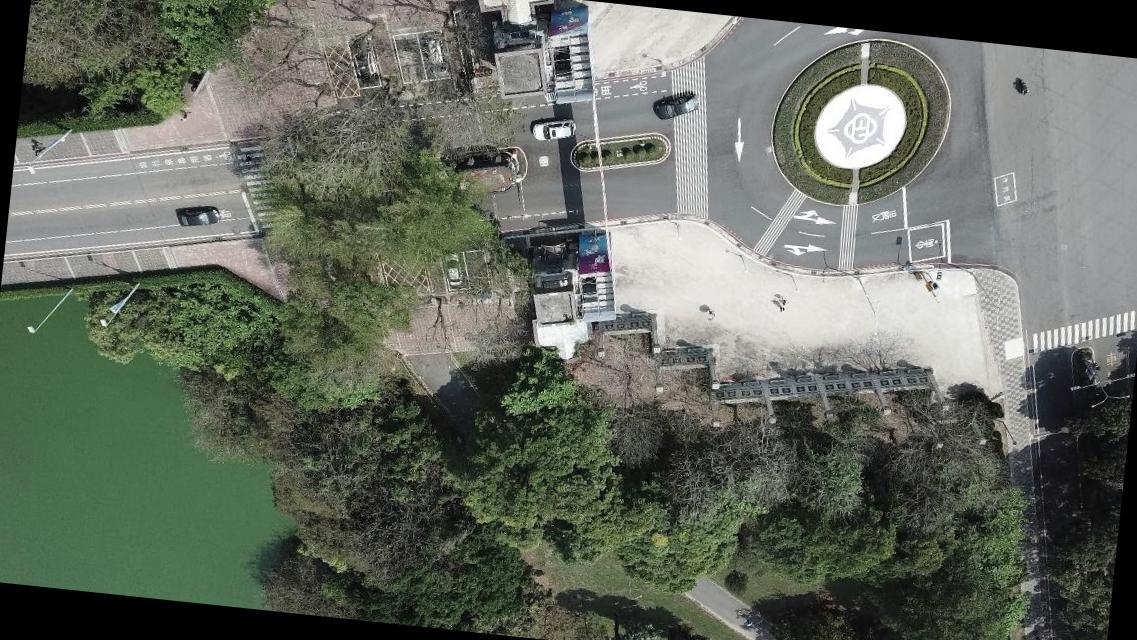vehicle: (346, 36, 382, 86), (652, 90, 702, 122), (422, 32, 454, 79), (532, 114, 578, 146), (177, 202, 219, 228), (440, 248, 466, 286)
